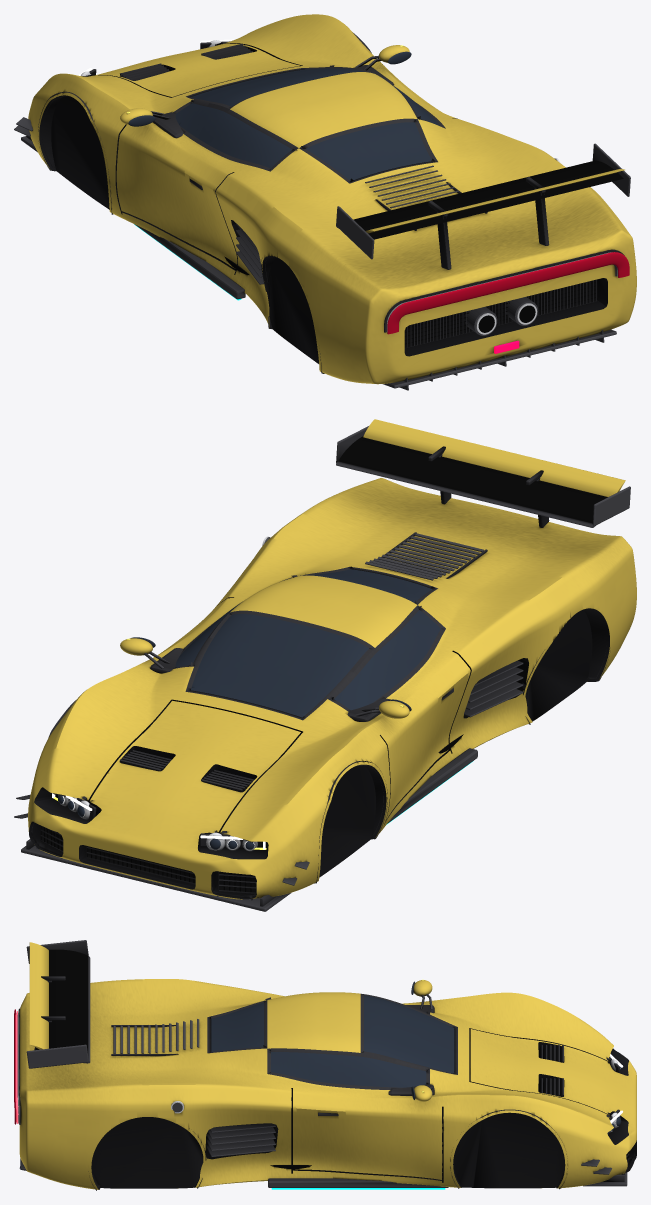
Rendered from hyper.glb.
The picture shows the model from 3 angles, top to bottom: view 1: azimuth 30°, elevation 25°; view 2: azimuth 150°, elevation 25°; view 3: azimuth 270°, elevation 25°; orthographic projection. The views are drawn at different scales.
Parts seen in each view (by area): view 1: body, glass_panes, wing, tail_lens, object 11, part.081, part.119, wing.001, tail_housing, part.092, dash, part.095 (+1 smaller); view 2: body, glass_panes, wing, wing.001, part.116, cabin_skin, part.119, object 6, part.092, dash; view 3: body, glass_panes, wing, wing.001, part.121, part.095, part.092, part.053, part.054, part.055, part.056, cabin_skin (+2 smaller).
Boxes of the visible parts, x1,y1,x2,y2 form: body: (28, 14, 636, 384); glass_panes: (175, 68, 440, 180); wing: (336, 160, 623, 239); tail_lens: (387, 252, 629, 334); object 11: (404, 279, 596, 348); part.081: (383, 329, 616, 388); part.119: (134, 224, 245, 299); wing.001: (365, 169, 624, 233); tail_housing: (384, 249, 624, 332); part.092: (336, 206, 374, 259); dash: (153, 65, 393, 138); part.095: (592, 143, 630, 196); body: (28, 478, 636, 899); glass_panes: (175, 569, 440, 717); wing: (336, 436, 607, 527); wing.001: (363, 419, 625, 496); part.116: (21, 845, 290, 911); cabin_skin: (31, 566, 609, 900); part.119: (387, 748, 477, 823); object 6: (86, 846, 195, 884); part.092: (592, 486, 630, 526); dash: (150, 648, 390, 721); body: (19, 979, 636, 1189); glass_panes: (211, 995, 454, 1087); wing: (35, 949, 90, 1063); wing.001: (29, 942, 48, 1049); part.121: (268, 1178, 448, 1187); part.095: (26, 1044, 88, 1068); part.092: (26, 940, 88, 963); part.053: (206, 1145, 275, 1156); part.054: (206, 1139, 275, 1150); part.055: (206, 1133, 275, 1144); part.056: (208, 1127, 275, 1138); cabin_skin: (88, 997, 634, 1190).
Bounding box in the file's own units: 2.18 × 1.26 × 4.75.
